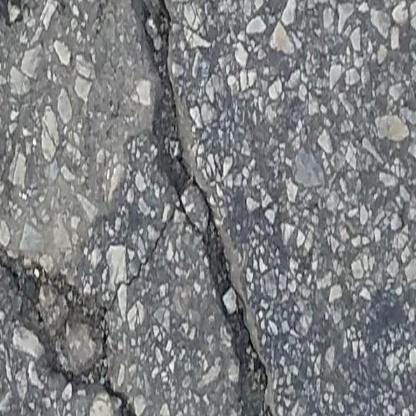Cracks: (134, 0, 301, 416), (0, 207, 171, 416)
